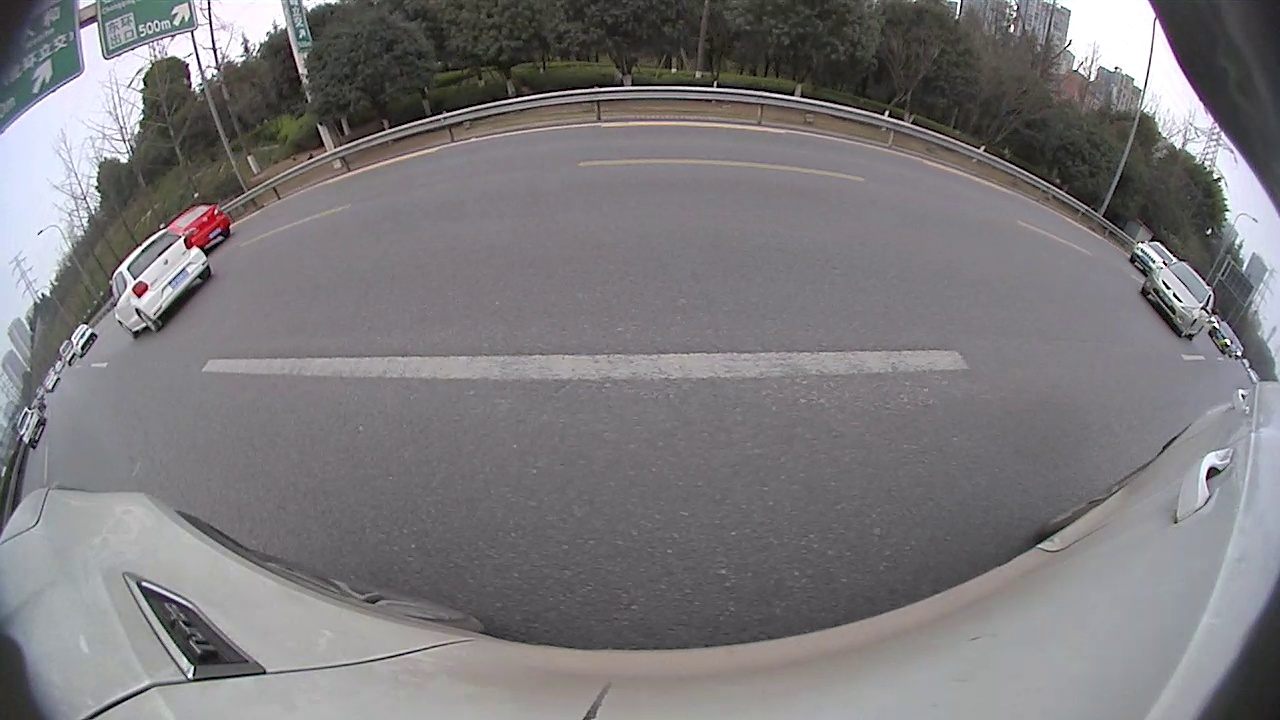car: (110, 227, 214, 342), (1141, 258, 1216, 341), (164, 202, 232, 252), (1129, 240, 1179, 278), (14, 404, 48, 450), (1207, 319, 1240, 356), (69, 322, 98, 354), (58, 339, 81, 366)
rear: (137, 309, 158, 334)
